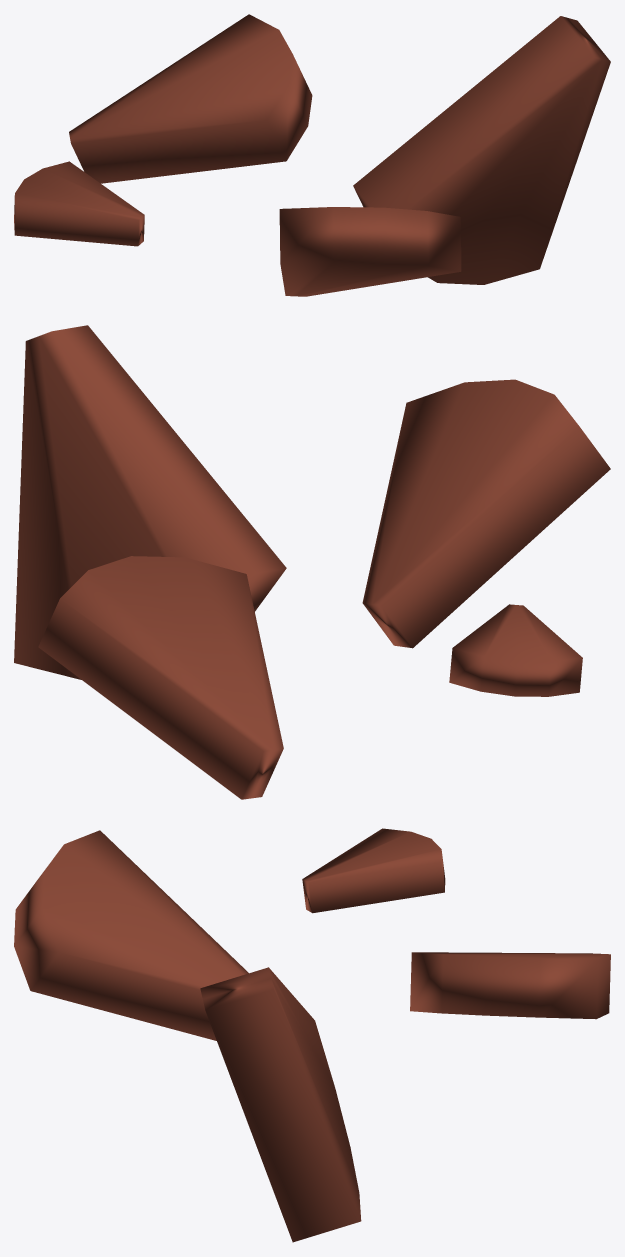
Rendered from chips.fbx.
3 renders of one model, top to bottom at view 1: azimuth 30°, elevation 25°; view 2: azimuth 150°, elevation 25°; view 3: azimuth 270°, elevation 25°, orthographic. The views are drawn at different scales.
Parts seen in each view (by area): view 1: pCube61; view 2: pCube61; view 3: pCube61.
Part boxes in pixels (<box>): pCube61: <box>14,14,610,296</box>; pCube61: <box>14,325,610,799</box>; pCube61: <box>14,828,610,1242</box>.
Size of the model in its own units: 14.6 by 7.08 by 13.6.
